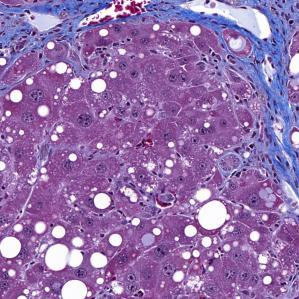fibrosis: (156, 0, 299, 55), (0, 0, 114, 60), (244, 81, 299, 191)
